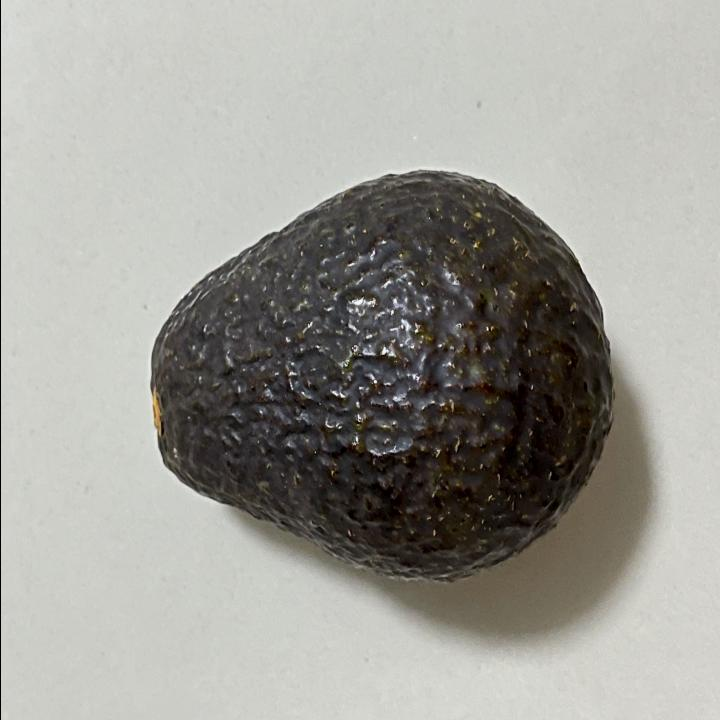Level2: (143, 165, 622, 591)
